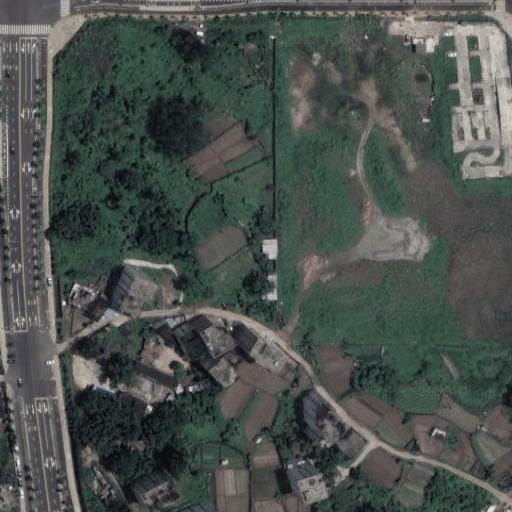building: (180, 118, 262, 190), (299, 387, 354, 445), (129, 359, 181, 390), (227, 321, 270, 357), (86, 292, 126, 330), (128, 471, 169, 505), (112, 384, 153, 418), (188, 311, 226, 345), (283, 462, 318, 494), (201, 345, 234, 378), (173, 319, 203, 354), (110, 279, 141, 309), (118, 262, 148, 289), (262, 272, 277, 303), (170, 500, 204, 512), (0, 484, 16, 509), (262, 239, 277, 262)
